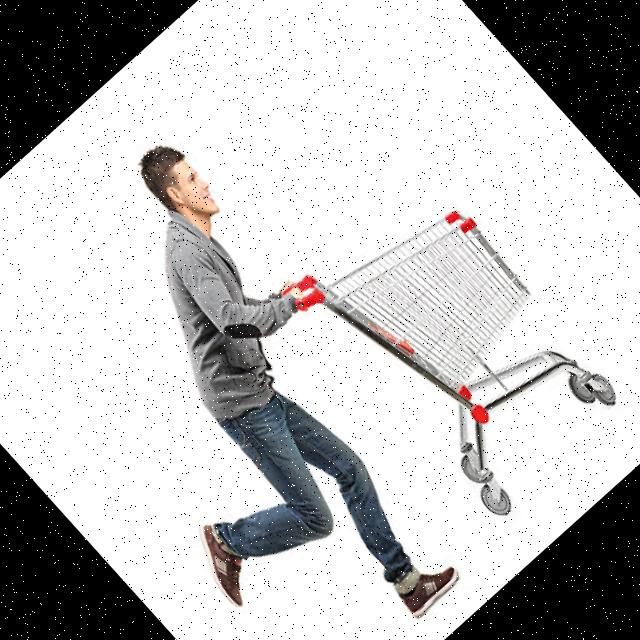Person: (0, 134, 521, 640)
